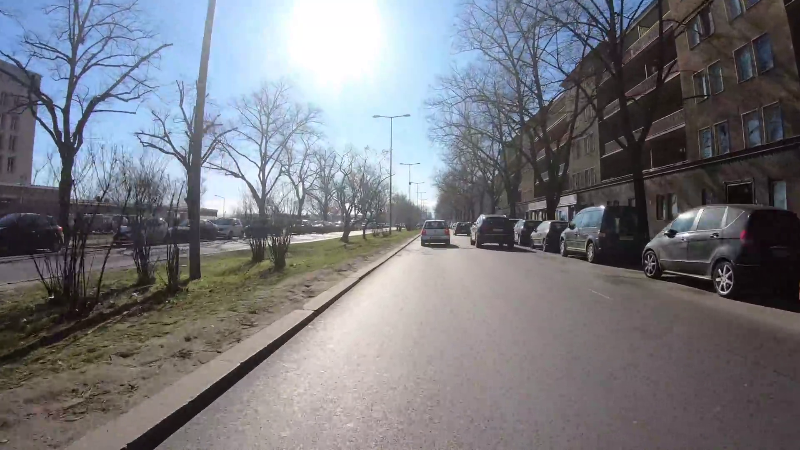Plate: (616, 233, 636, 242), (491, 228, 505, 232)
